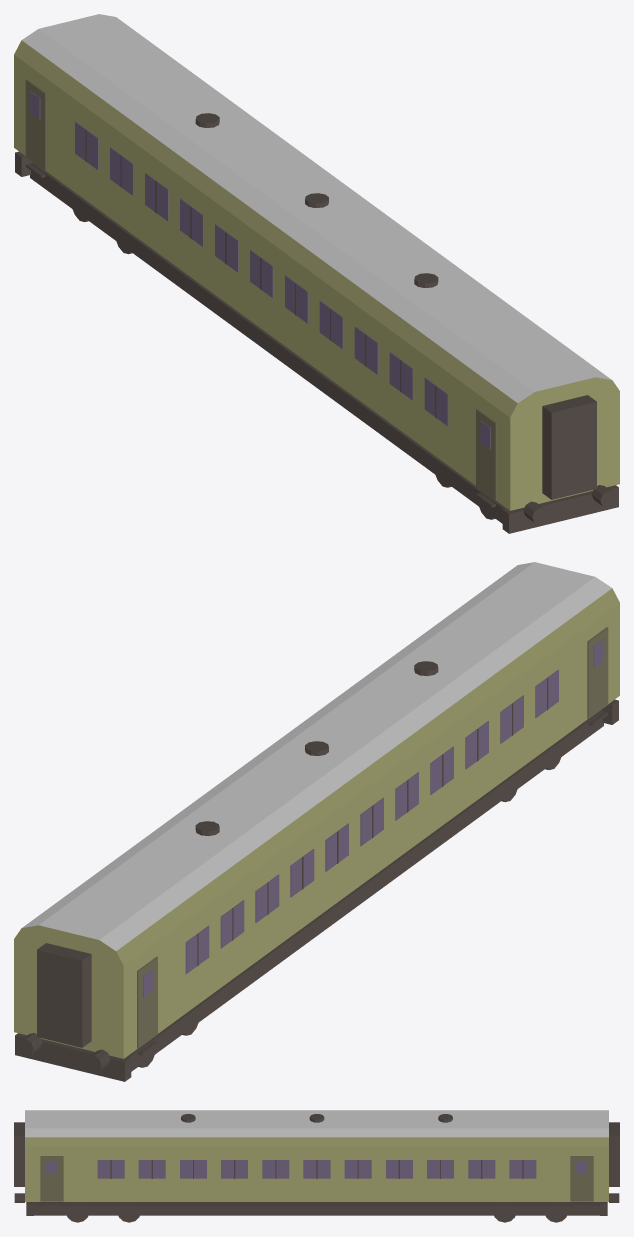
The model's file is SM_Vagon_Cercano_v0_LOD0.fbx.
3 renders of one model, top to bottom at view 1: azimuth 30°, elevation 25°; view 2: azimuth 150°, elevation 25°; view 3: azimuth 270°, elevation 25°, orthographic. The views are drawn at different scales.
Visible parts, largest first — view 1: SM_bloques.vagon_cercano_v0_LOD0, Ventanillas; view 2: SM_bloques.vagon_cercano_v0_LOD0, Ventanillas; view 3: SM_bloques.vagon_cercano_v0_LOD0, Ventanillas.
Part boxes in pixels (x1,y1,x2,y2): SM_bloques.vagon_cercano_v0_LOD0: (14,14,619,533); Ventanillas: (30,91,490,449); SM_bloques.vagon_cercano_v0_LOD0: (14,562,619,1081); Ventanillas: (143,639,603,997); SM_bloques.vagon_cercano_v0_LOD0: (14,1110,619,1222); Ventanillas: (46,1160,587,1178).
Bounding box in the file's own units: 3.08 × 4.12 × 23.55.
